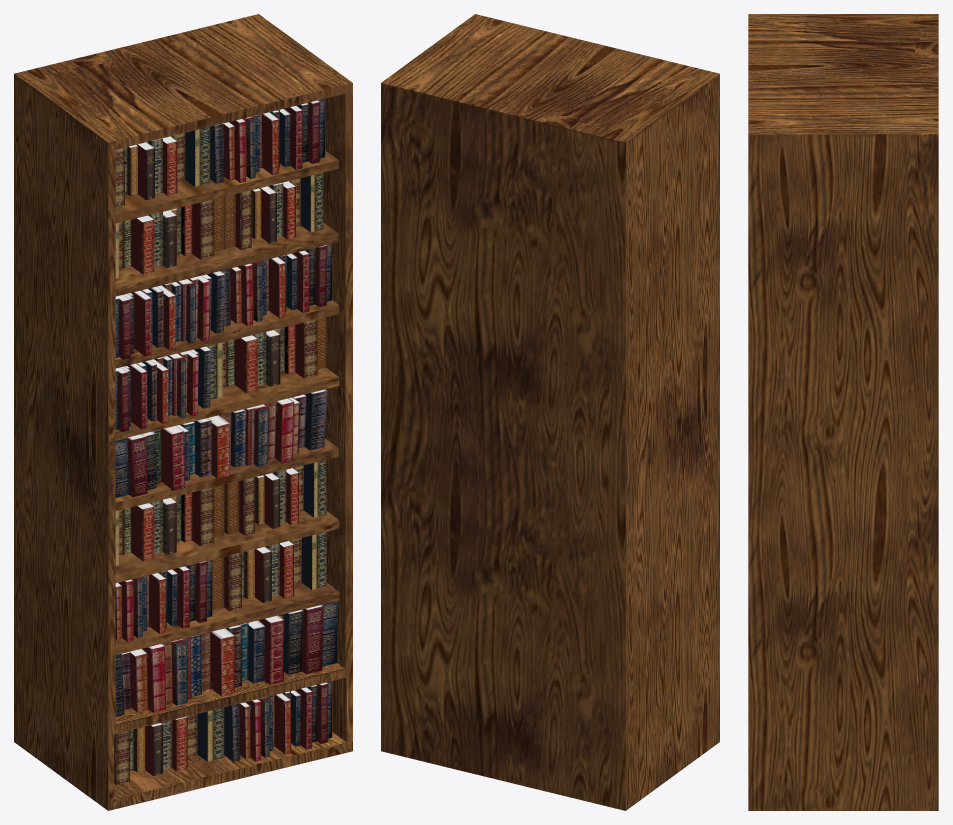
File: book_shelf.glb
The picture shows the model from 3 angles, left to right: view 1: azimuth 30°, elevation 25°; view 2: azimuth 150°, elevation 25°; view 3: azimuth 270°, elevation 25°; orthographic projection.
Parts seen in each view (by area): view 1: Plane.039; view 2: Plane.039; view 3: Plane.039.
Part boxes in pixels (x1,y1,x2,y2): Plane.039: (14, 14, 352, 810); Plane.039: (381, 14, 719, 810); Plane.039: (748, 14, 938, 810).
Bounding box in the file's own units: 3 × 7.83 × 2.
Materials: 1 (1 with a texture image).
